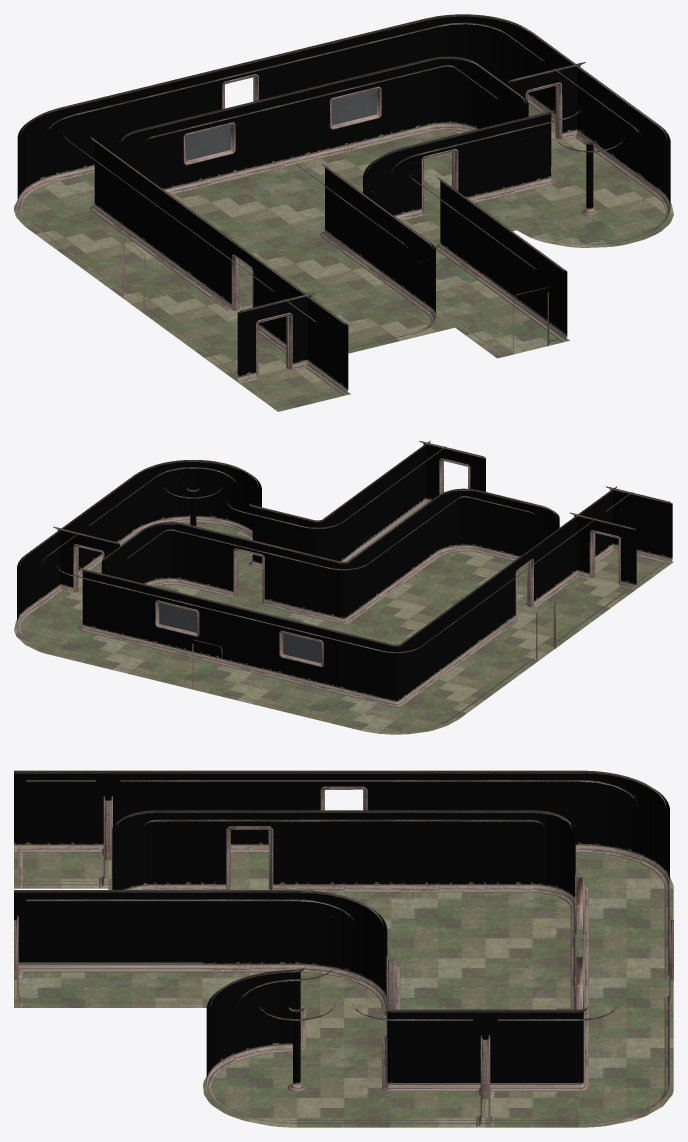
Rendered from bunker.room.21.ac.glb.
3 renders of one model, top to bottom at view 1: azimuth 30°, elevation 25°; view 2: azimuth 150°, elevation 25°; view 3: azimuth 270°, elevation 25°, orthographic. The views are drawn at different scales.
Visible parts, largest first — view 1: bunker.room.21.ac_LOD0; view 2: bunker.room.21.ac_LOD0; view 3: bunker.room.21.ac_LOD0.
Boxes of the visible parts, left/top/right/bottom form: bunker.room.21.ac_LOD0: left=14, top=14, right=673, bottom=411; bunker.room.21.ac_LOD0: left=14, top=440, right=673, bottom=734; bunker.room.21.ac_LOD0: left=14, top=770, right=673, bottom=1127.
Size of the model in its own units: 21 by 3.02 by 21.
Materials: 5 (5 with a texture image).
